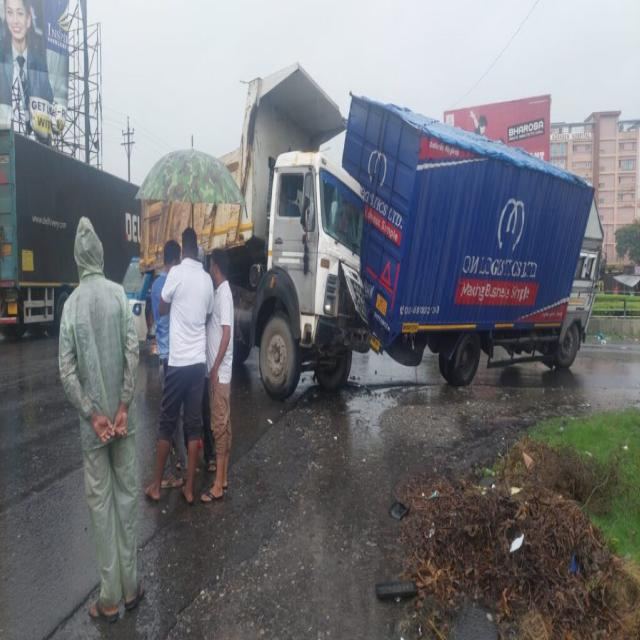truck: (342, 95, 602, 386), (141, 64, 369, 393)
